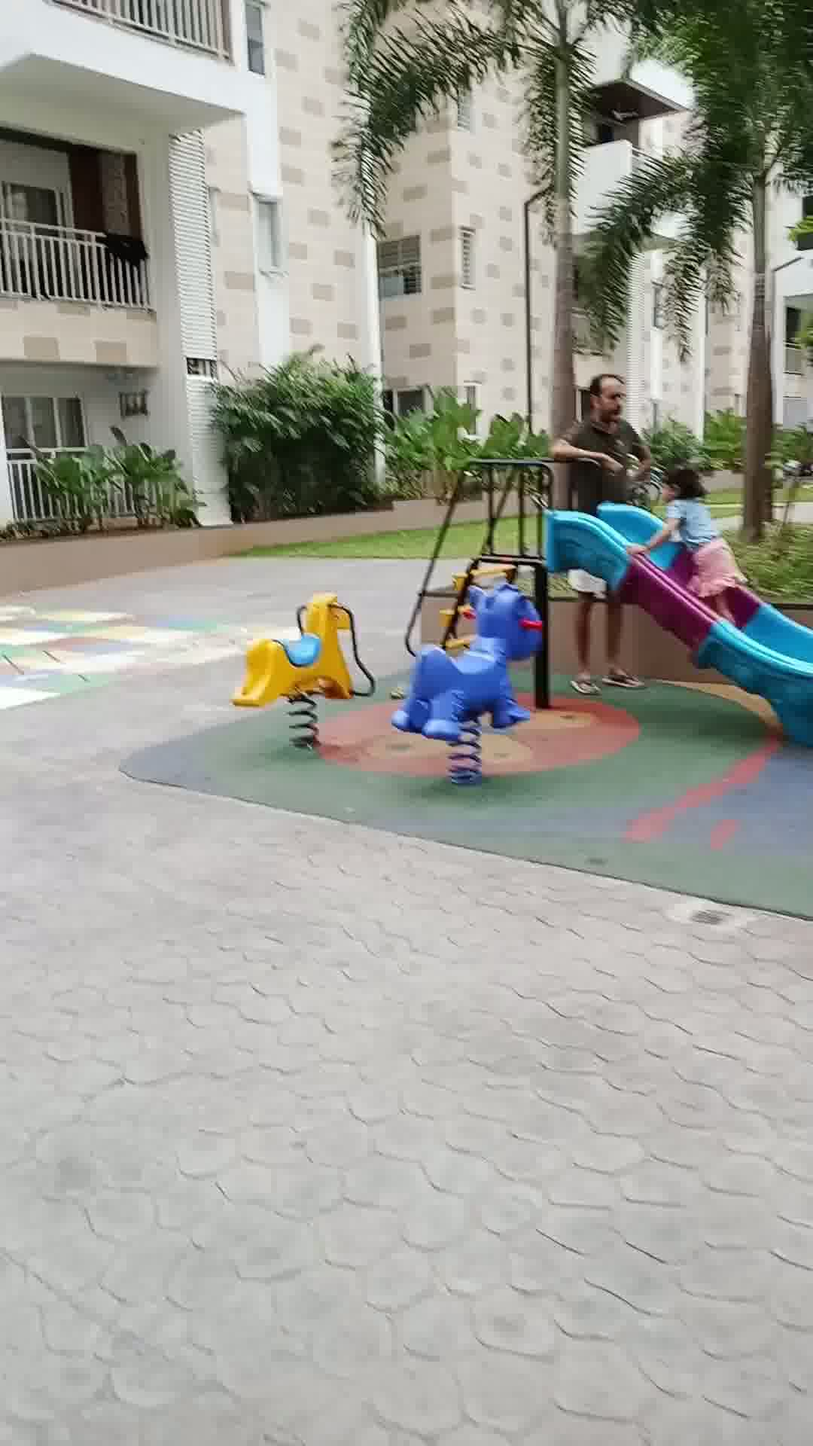person: (549, 359, 654, 714), (646, 450, 748, 626)
tree: (310, 0, 597, 547), (615, 0, 813, 547)
